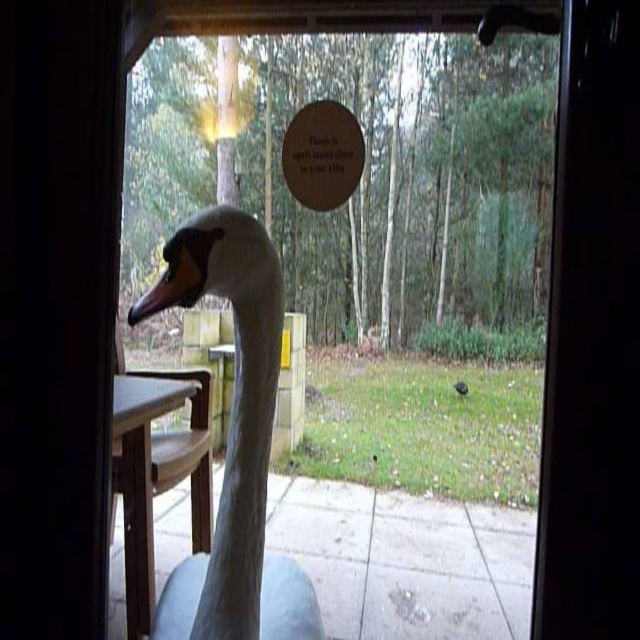Goose: (125, 204, 324, 636)
